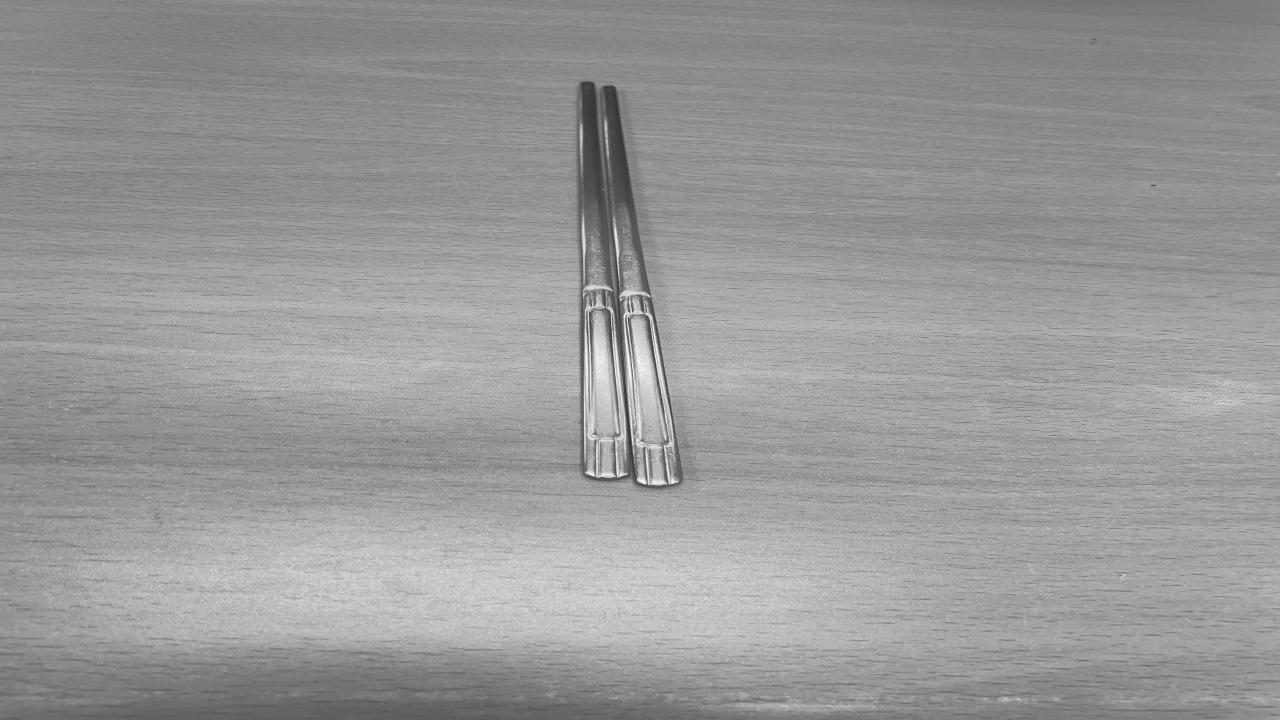chopstick: (582, 83, 681, 483)
